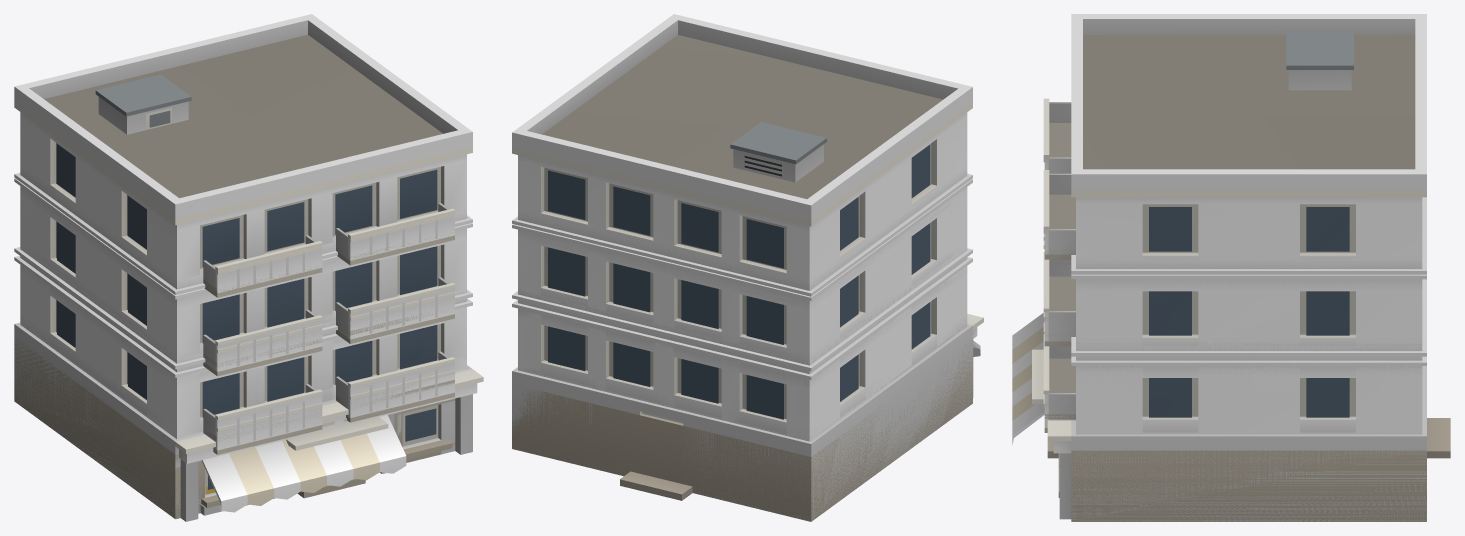
The model's file is apartment-low.glb.
3 renders of one model, left to right at view 1: azimuth 30°, elevation 25°; view 2: azimuth 150°, elevation 25°; view 3: azimuth 270°, elevation 25°, orthographic. The views are drawn at different scales.
Parts seen in each view (by area): view 1: ApartmentLow, ApartmentLowRetail; view 2: ApartmentLow, ApartmentLowRetail; view 3: ApartmentLow, ApartmentLowRetail.
Part boxes in pixels (left/top/right/bottom): ApartmentLow: left=14, top=14, right=472, bottom=518; ApartmentLowRetail: left=14, top=117, right=483, bottom=521; ApartmentLow: left=512, top=14, right=972, bottom=521; ApartmentLowRetail: left=512, top=123, right=983, bottom=520; ApartmentLow: left=1032, top=14, right=1426, bottom=521; ApartmentLowRetail: left=1012, top=98, right=1450, bottom=521.
Size of the model in its own units: 0.964 by 1 by 1.11.
